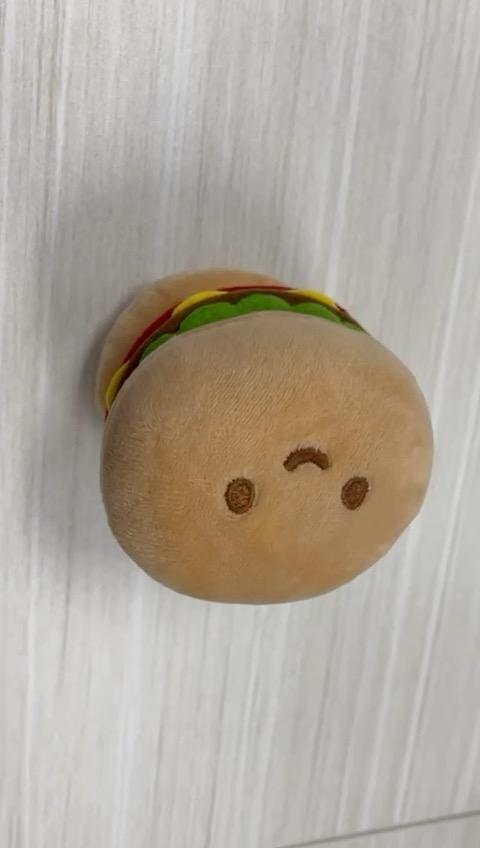hamburger: (94, 266, 434, 603)
